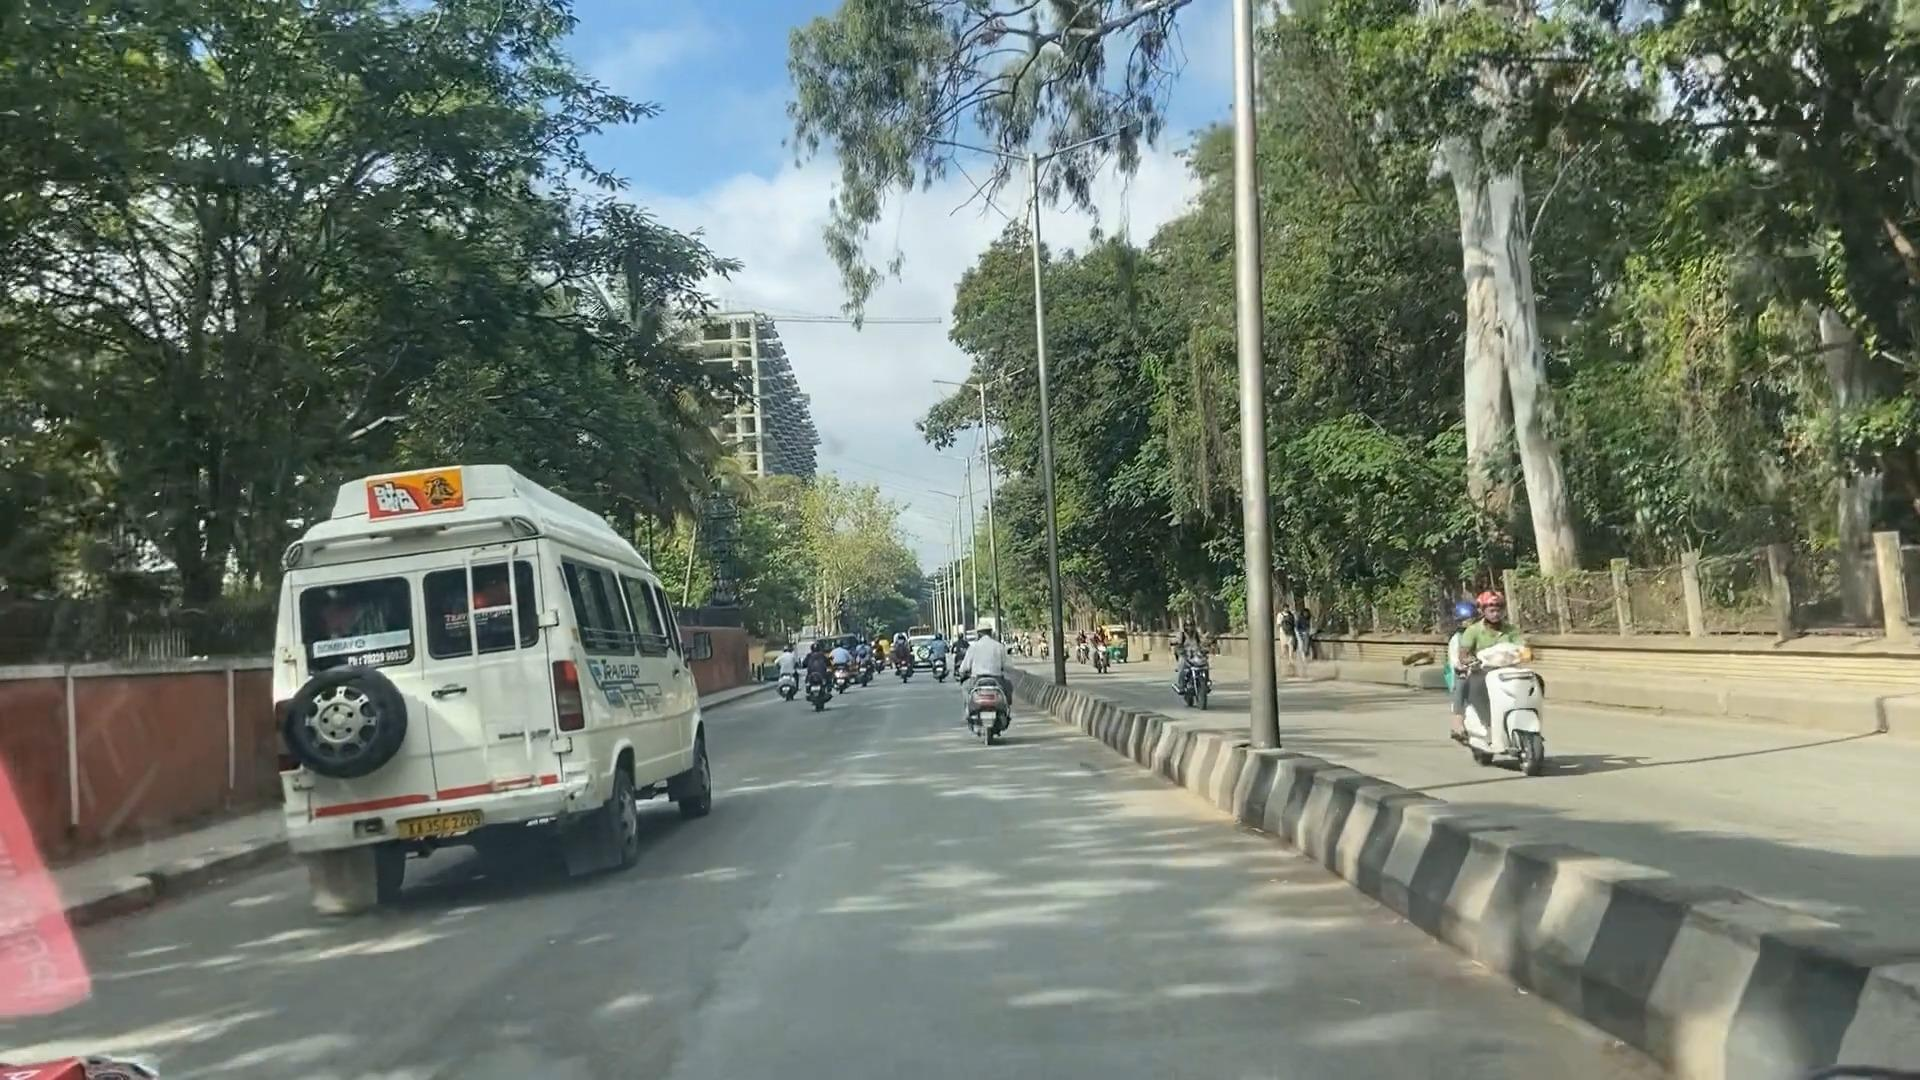HMV: (266, 541, 589, 911)
LMV: (800, 634, 832, 716)
